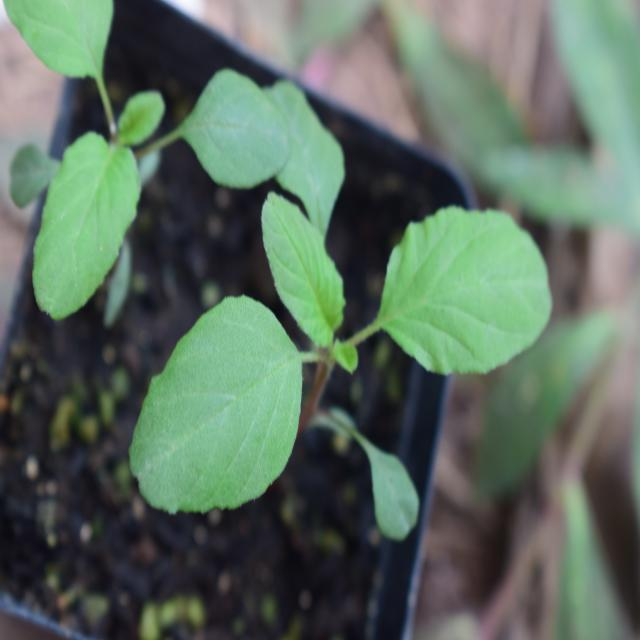pigweed: (149, 79, 550, 526)
